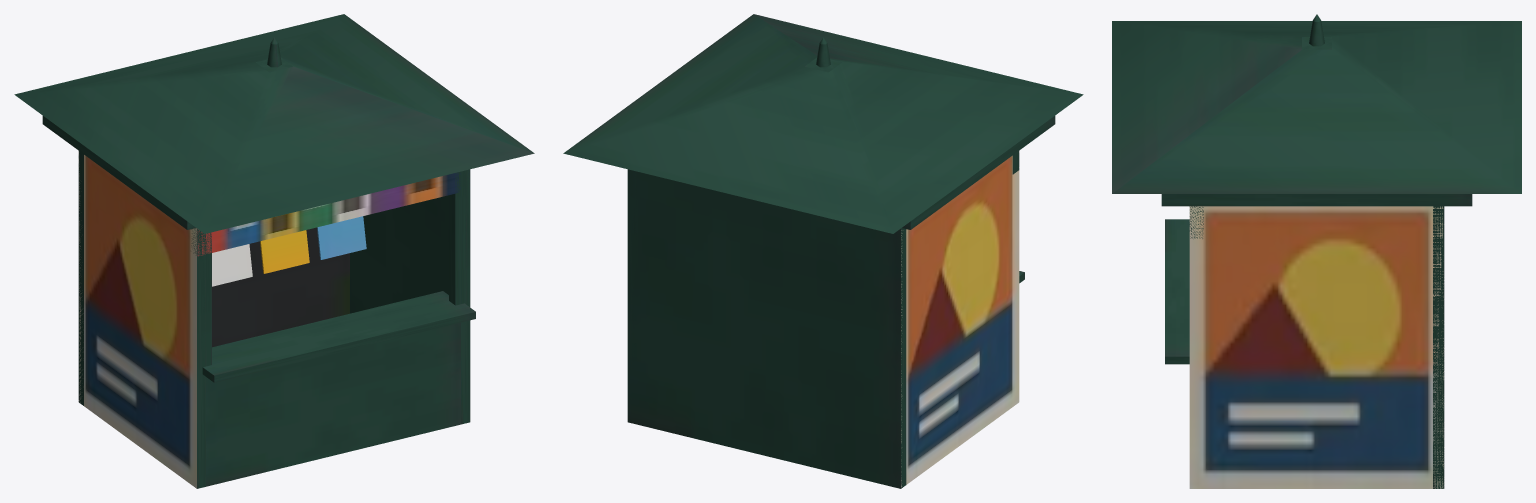
File: kiosque_journaux_lod1.glb
3 renders of one model, left to right at view 1: azimuth 30°, elevation 25°; view 2: azimuth 150°, elevation 25°; view 3: azimuth 270°, elevation 25°, orthographic. The views are drawn at different scales.
Parts seen in each view (by area): view 1: kiosque_journaux; view 2: kiosque_journaux; view 3: kiosque_journaux.
Boxes of the visible parts, x1,y1,x2,y2 form: kiosque_journaux: [14, 14, 534, 488]; kiosque_journaux: [563, 14, 1083, 488]; kiosque_journaux: [1112, 14, 1521, 488].
Size of the model in its own units: 2.9 by 3.15 by 2.9.
1 material, 1 textured.
